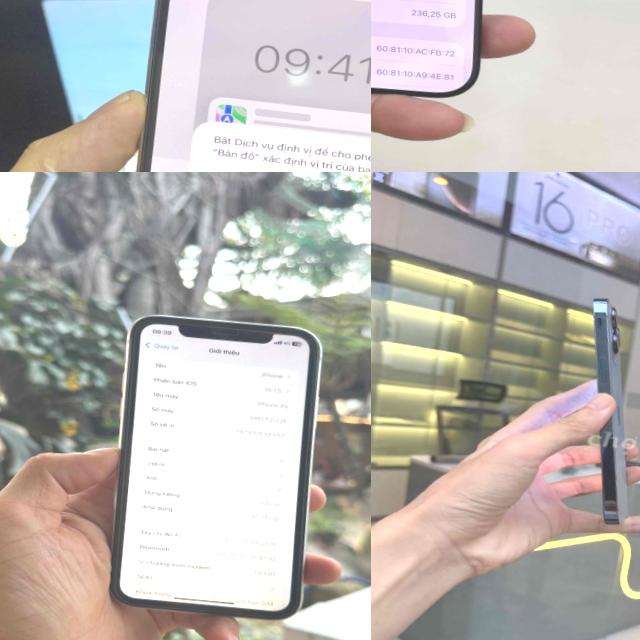gen_12_13: (110, 0, 371, 172), (562, 283, 640, 529)
gen_16: (371, 0, 480, 96)
gen_x_xs: (110, 315, 321, 618)
